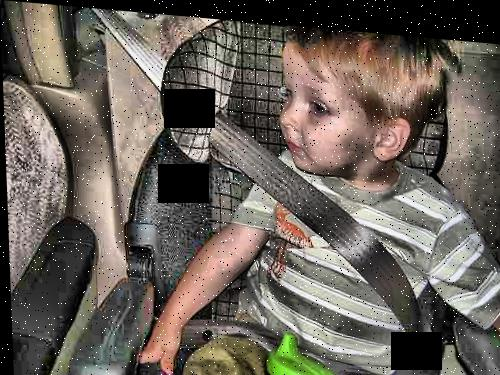seatbelt: (134, 50, 417, 341)
